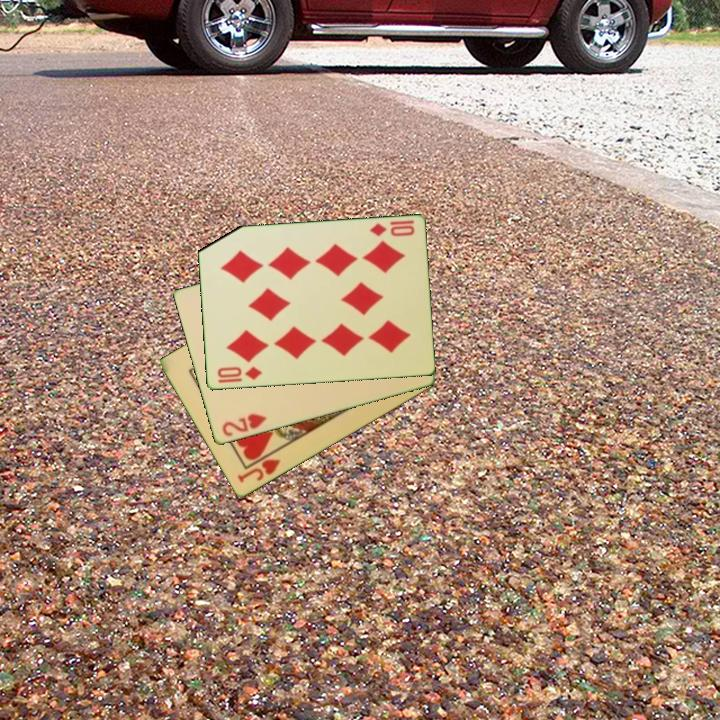10d: (214, 363, 265, 386), (366, 220, 417, 240)
2h: (218, 410, 269, 440)
Jh: (234, 447, 284, 486)
